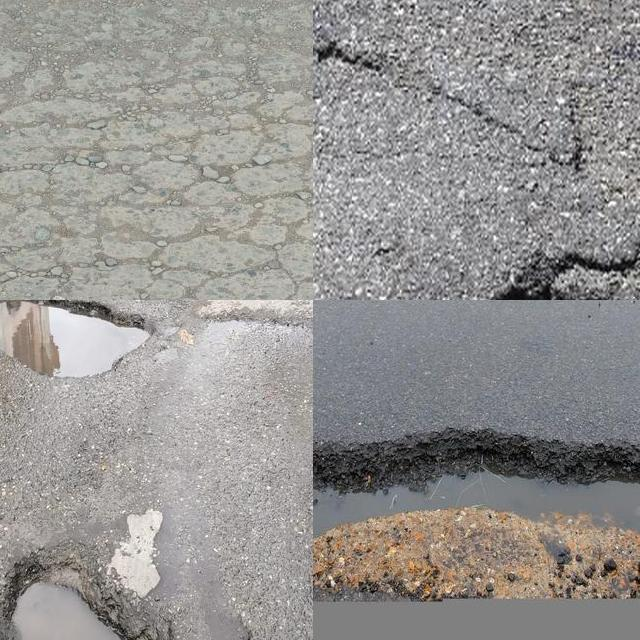Lubang: (313, 437, 640, 603), (0, 548, 172, 640), (0, 300, 160, 380)
Retak Buaya: (0, 54, 313, 300)
